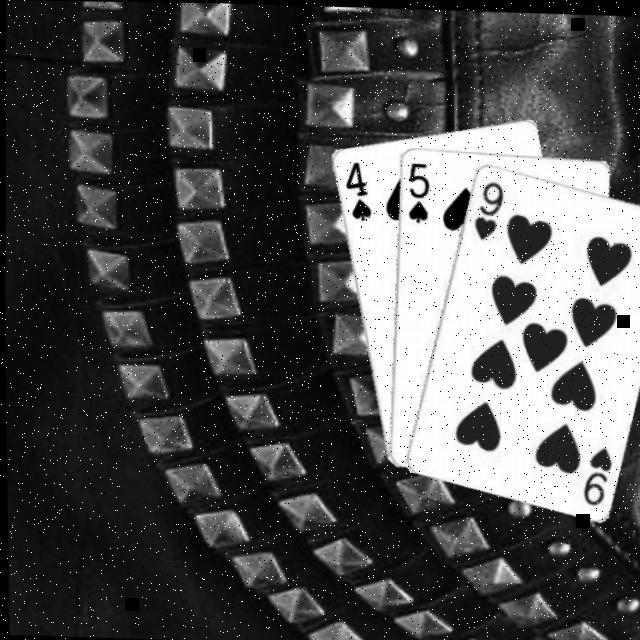4S: (341, 154, 375, 219)
5S: (405, 155, 433, 221)
9H: (470, 174, 508, 239), (580, 439, 616, 504)
